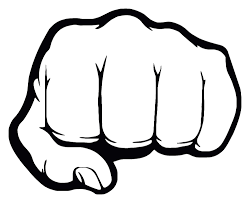fist: (48, 24, 227, 165)
